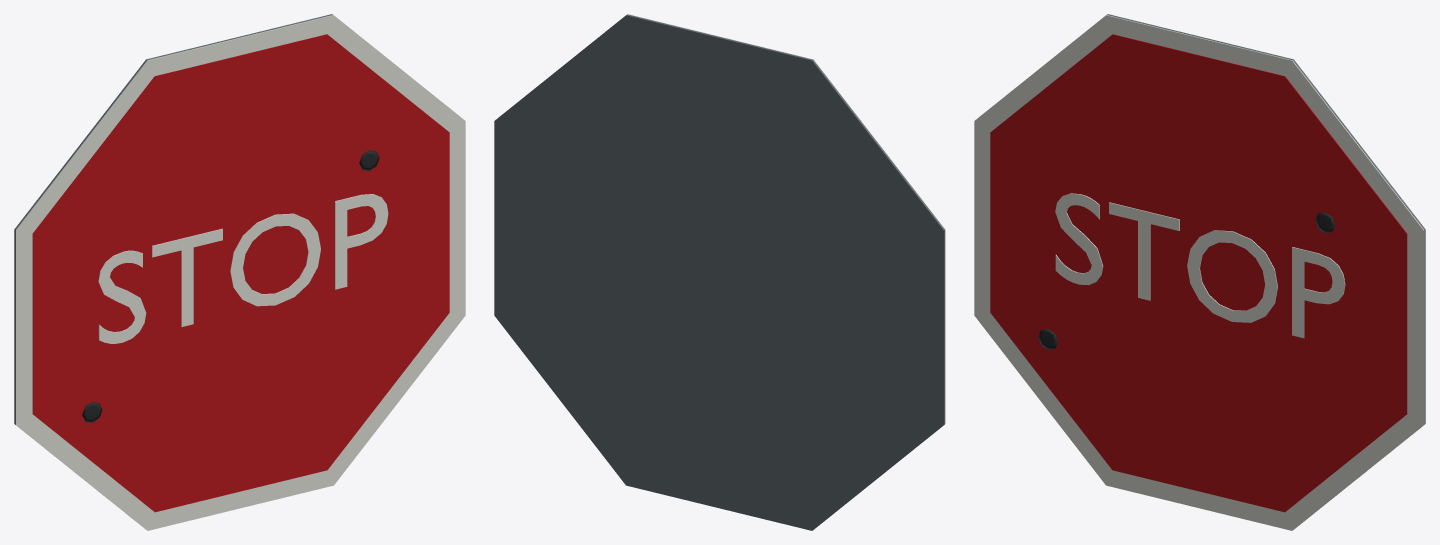
The model's file is PlacaStop.fbx.
The picture shows the model from 3 angles, left to right: view 1: azimuth 30°, elevation 25°; view 2: azimuth 150°, elevation 25°; view 3: azimuth 330°, elevation 25°; orthographic projection.
Parts seen in each view (by area): view 1: PlacaStop; view 2: PlacaStop; view 3: PlacaStop.
Part boxes in pixels (left/top/right/bottom): PlacaStop: left=14, top=14, right=465, bottom=530; PlacaStop: left=494, top=14, right=945, bottom=530; PlacaStop: left=974, top=14, right=1425, bottom=530.
Size of the model in its own units: 0.6 by 0.6 by 0.0072.
